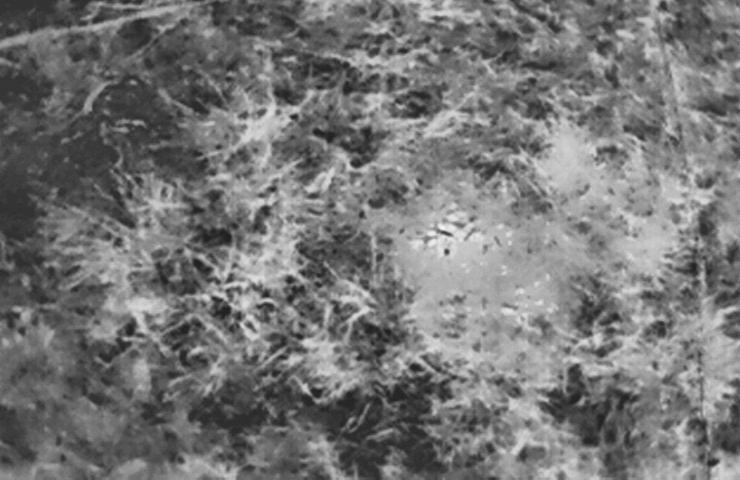landmines: (412, 201, 516, 289)
